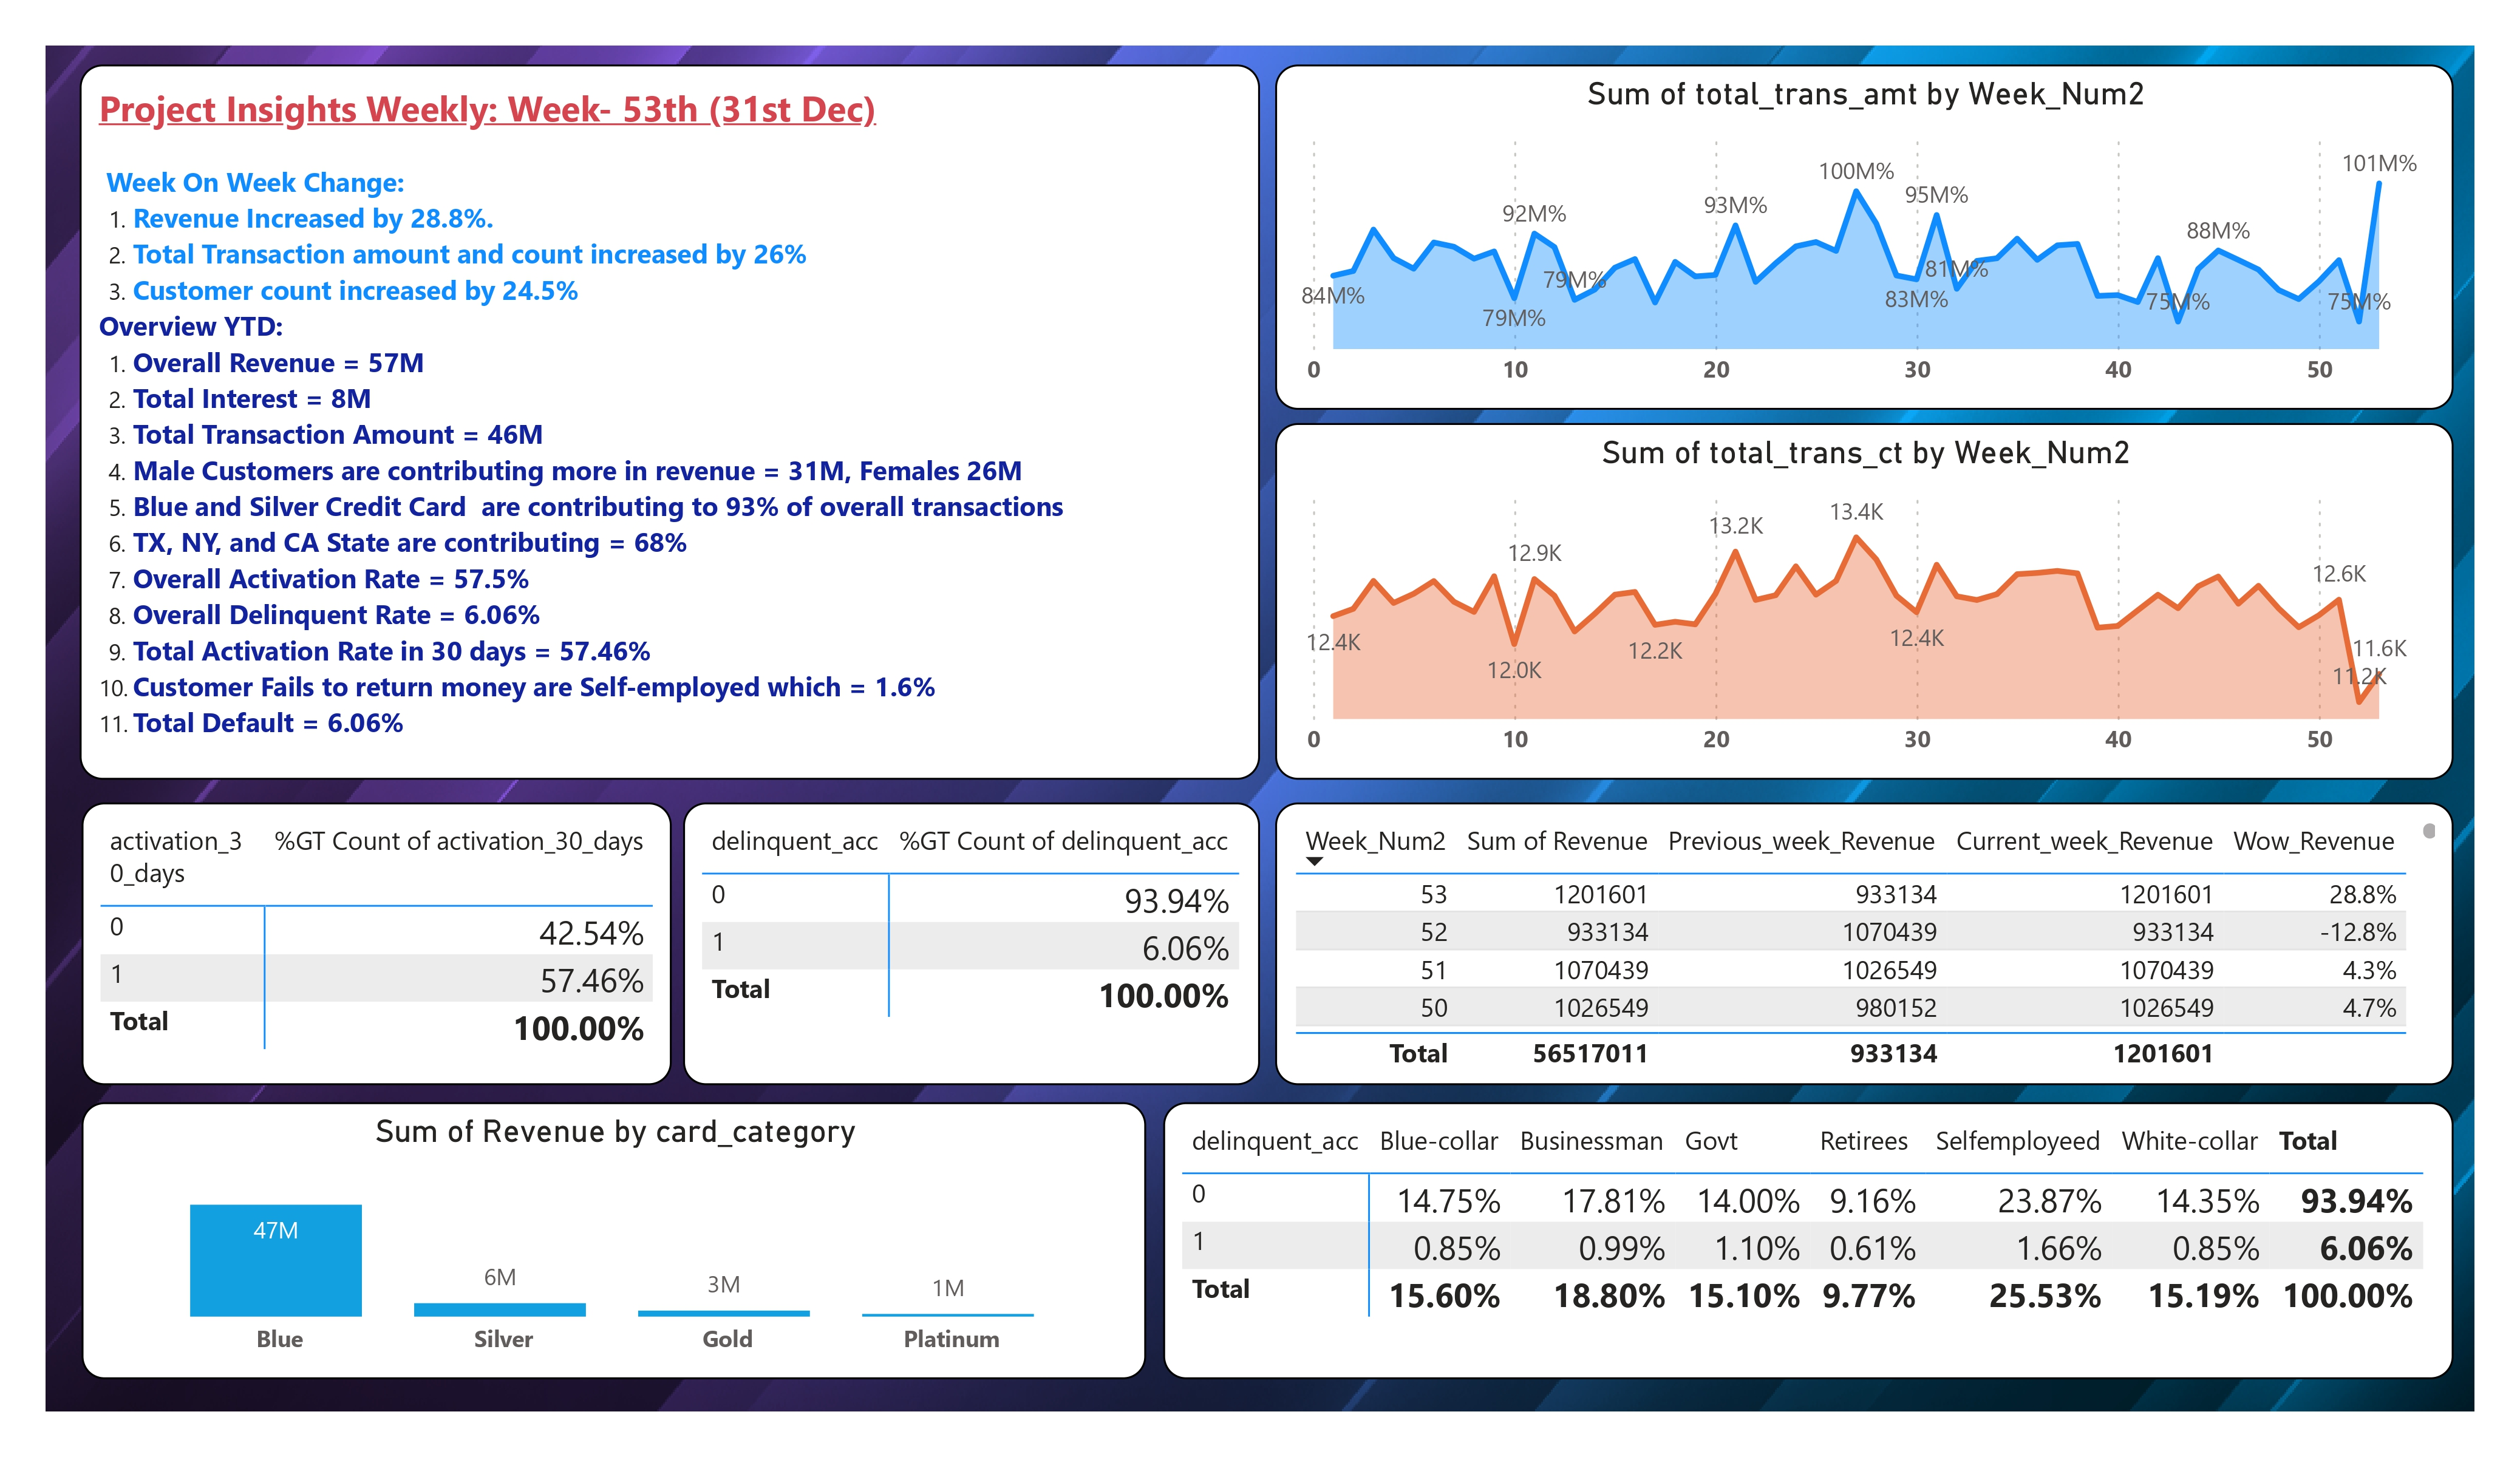

This screenshot's page, from the dashboard's own definition file:
{"tool":"powerbi","page":{"name":"Insights","canvas":[1280,720],"ordinal":2},"visuals":[{"type":"columnChart","fields":{"Y":["Sum(public cc_detail.Revenue)"],"Category":["public cc_detail.card_category"]},"box":[19.5,557.3,560.2,145.9],"z":0},{"type":"tableEx","fields":{"Values":["public cc_detail.Week_Num2","Sum(public cc_detail.Revenue)","public cc_detail.Previous_week_Revenue","public cc_detail.Current_week_Revenue","public cc_detail.Wow_Revenue"]},"box":[647.8,398.8,621.5,148.8],"z":1000},{"type":"textbox","box":[18.5,9.7,621.5,377.4],"z":2000},{"type":"lineChart","fields":{"Category":["public cc_detail.Week_Num2","public cc_detail.week_start_date.Variation.Date Hierarchy.Month","public cc_detail.week_start_date.Variation.Date Hierarchy.Day"],"Y":["Sum(public cc_detail.total_trans_amt)"]},"box":[647.8,9.7,621.5,181.9],"z":3000},{"type":"lineChart","fields":{"Category":["public cc_detail.Week_Num2","public cc_detail.week_start_date.Variation.Date Hierarchy.Month","public cc_detail.week_start_date.Variation.Date Hierarchy.Day"],"Y":["Sum(public cc_detail.total_trans_ct)"]},"box":[647.8,199.4,621.5,187.7],"z":4000},{"type":"pivotTable","fields":{"Rows":["public cc_detail.activation_30_days"],"Values":["Sum(public cc_detail.activation_30_days)"]},"box":[19.5,398.8,310.3,148.8],"z":4001},{"type":"pivotTable","fields":{"Rows":["public cc_detail.delinquent_acc"],"Values":["Min(public cc_detail.delinquent_acc)"]},"box":[335.6,398.8,304.4,148.8],"z":4002},{"type":"pivotTable","fields":{"Rows":["public cc_detail.delinquent_acc"],"Values":["Min(public cc_detail.delinquent_acc)"],"Columns":["public cust_detail.customer_job"]},"box":[589.4,557.3,679.9,145.9],"z":4003}]}

Visuals, with their boxes in screenshot pixels (x1, y1, x2, y2):
columnChart - Sum(public cc_detail.Revenue) x public cc_detail.card_category: x1=83, y1=1103, x2=1146, y2=1379
tableEx - public cc_detail.Week_Num2 x Sum(public cc_detail.Revenue): x1=1275, y1=802, x2=2454, y2=1084
textbox: x1=81, y1=64, x2=1260, y2=780
lineChart - public cc_detail.Week_Num2 x public cc_detail.week_start_date.Variation.Date Hierarchy.Month: x1=1275, y1=64, x2=2454, y2=409
lineChart - public cc_detail.Week_Num2 x public cc_detail.week_start_date.Variation.Date Hierarchy.Month: x1=1275, y1=424, x2=2454, y2=780
pivotTable - public cc_detail.activation_30_days x Sum(public cc_detail.activation_30_days): x1=83, y1=802, x2=672, y2=1084
pivotTable - public cc_detail.delinquent_acc x Min(public cc_detail.delinquent_acc): x1=683, y1=802, x2=1260, y2=1084
pivotTable - public cc_detail.delinquent_acc x Min(public cc_detail.delinquent_acc): x1=1164, y1=1103, x2=2454, y2=1379
